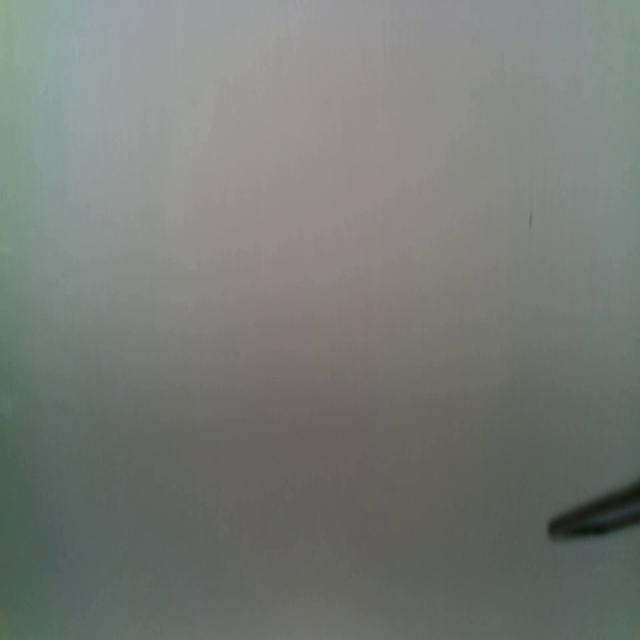hole: (528, 206, 535, 232)
